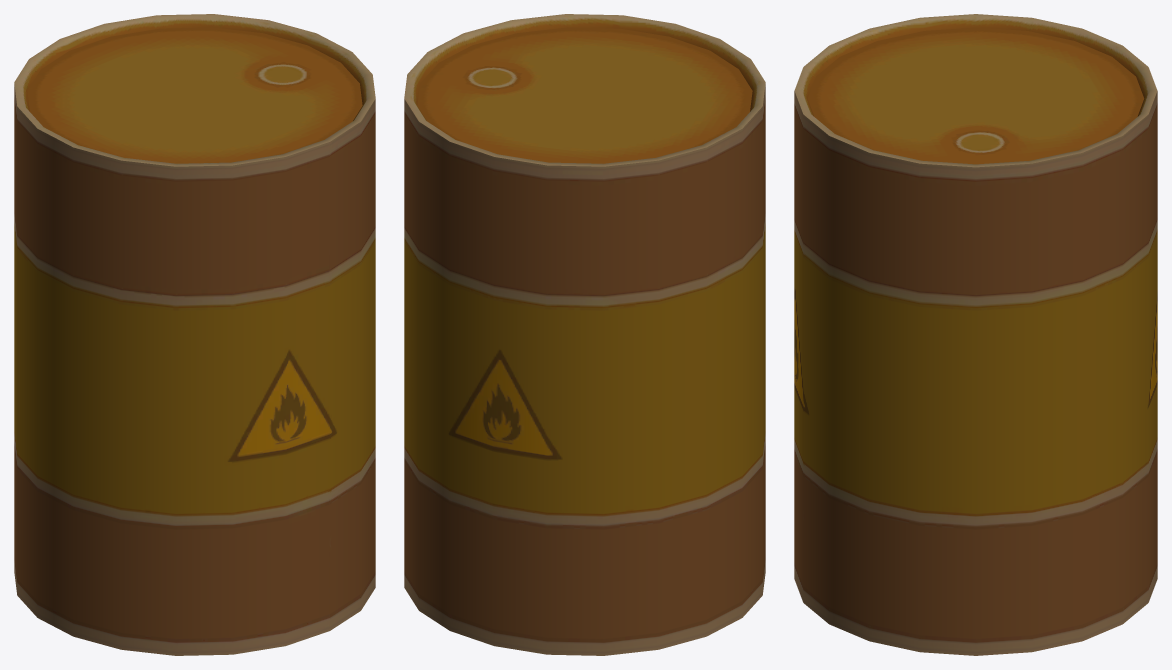
The model's file is SM_metal_barrel.glb.
The picture shows the model from 3 angles, left to right: view 1: azimuth 30°, elevation 25°; view 2: azimuth 150°, elevation 25°; view 3: azimuth 270°, elevation 25°; orthographic projection.
Visible parts, largest first — view 1: SM_metal_barrel; view 2: SM_metal_barrel; view 3: SM_metal_barrel.
Boxes of the visible parts, box(x1,y1,x2,y2) form: SM_metal_barrel: box(14, 14, 375, 655); SM_metal_barrel: box(404, 14, 765, 655); SM_metal_barrel: box(794, 14, 1157, 655).
Bounding box in the file's own units: 0.8 × 1.19 × 0.8.
1 material, 1 textured.
